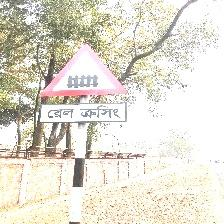Rail-crossing: (38, 38, 128, 136)
